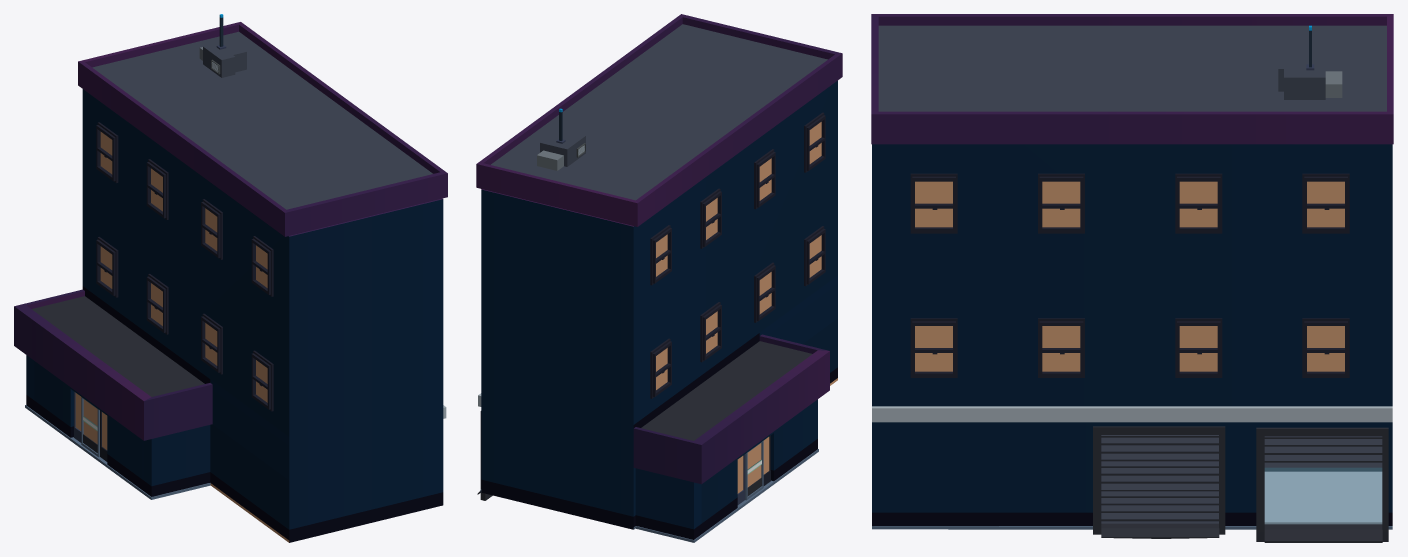
Rendered from Building_Wide02.fbx.
The picture shows the model from 3 angles, left to right: view 1: azimuth 30°, elevation 25°; view 2: azimuth 150°, elevation 25°; view 3: azimuth 270°, elevation 25°; orthographic projection. The views are drawn at different scales.
Parts seen in each view (by area): view 1: Cube.403, Cube.405; view 2: Cube.403, Cube.405; view 3: Cube.403, GarageDoor_Top.001.
Part boxes in pixels (box(x1,y1,x2,y2)): Cube.403: box(14, 14, 447, 542); Cube.405: box(81, 397, 99, 457); Cube.403: box(476, 14, 842, 542); Cube.405: box(745, 441, 763, 500); Cube.403: box(871, 14, 1393, 538); GarageDoor_Top.001: box(1256, 427, 1388, 542).
Size of the model in its own units: 701 by 1118 by 1091.
